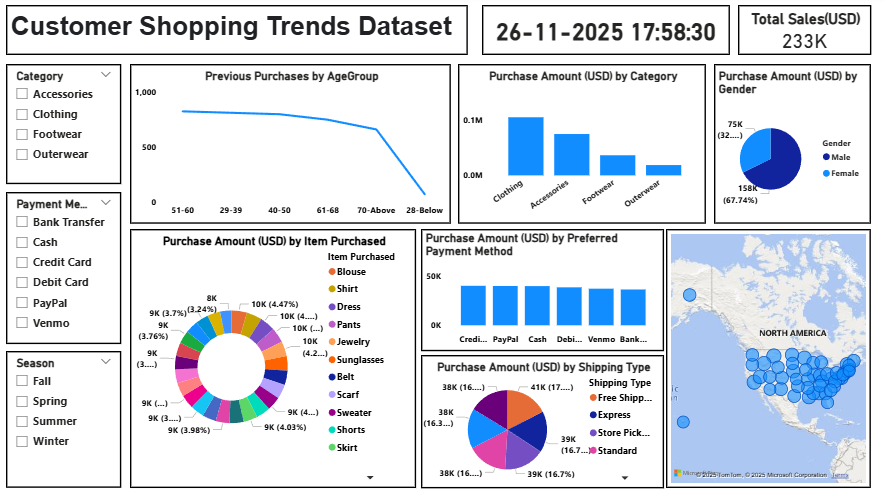

Layout of this report page (visuals, bound fields, positions):
{"tool":"powerbi","page":{"name":"Page 1","canvas":[1280,720],"ordinal":0},"visuals":[{"type":"textbox","box":[10.1,13,665.3,72],"z":0},{"type":"card","fields":{"Values":["shopping_trends.Today"]},"box":[695.5,13,357.1,72],"z":1},{"type":"card","title":"Total Sales(USD)","fields":{"Values":["Sum(shopping_trends.Purchase Amount (USD))"]},"box":[1064.2,13,191.5,72],"z":2},{"type":"slicer","fields":{"Values":["shopping_trends.Category"]},"box":[10.1,97.9,165.6,172.8],"z":3},{"type":"slicer","fields":{"Values":["shopping_trends.Payment Method"]},"box":[10.1,282.2,165.6,218.9],"z":4},{"type":"slicer","fields":{"Values":["shopping_trends.Season"]},"box":[10.1,511.2,165.6,197.3],"z":5},{"type":"lineChart","title":"Previous Purchases by AgeGroup","fields":{"Category":["shopping_trends.AgeGroup"],"Y":["CountNonNull(shopping_trends.Previous Purchases)"]},"box":[188.6,97.9,462.2,230.4],"z":6},{"type":"clusteredColumnChart","title":"Purchase Amount (USD) by Category","fields":{"Y":["Sum(shopping_trends.Purchase Amount (USD))"],"Category":["shopping_trends.Category"]},"box":[661,97.9,357.1,230.4],"z":7},{"type":"pieChart","title":"Purchase Amount (USD) by Gender","fields":{"Category":["shopping_trends.Gender"],"Y":["Sum(shopping_trends.Purchase Amount (USD))"]},"box":[1029.6,97.9,226.1,230.4],"z":8},{"type":"donutChart","title":"Purchase Amount (USD) by Item Purchased","fields":{"Category":["shopping_trends.Item Purchased"],"Y":["Sum(shopping_trends.Purchase Amount (USD))"]},"box":[188.6,335.5,411.8,373],"z":9},{"type":"map","fields":{"Category":["shopping_trends.Location"],"Size":["CountNonNull(shopping_trends.Category)"]},"box":[960.5,335.5,295.2,373],"z":10},{"type":"clusteredColumnChart","title":"Purchase Amount (USD) by Preferred Payment Method","fields":{"Category":["shopping_trends.Preferred Payment Method"],"Y":["Sum(shopping_trends.Purchase Amount (USD))"]},"box":[607.7,335.5,349.9,175.7],"z":11},{"type":"pieChart","title":"Purchase Amount (USD) by Shipping Type","fields":{"Category":["shopping_trends.Shipping Type"],"Y":["Sum(shopping_trends.Purchase Amount (USD))"]},"box":[607.7,517,349.9,191.5],"z":12}]}

Visuals, with their boxes in screenshot pixels (x1, y1, x2, y2), scaled from the page's 1280x720 canvas onto the 886x495 screenshot:
textbox: left=7, top=9, right=468, bottom=58
card - shopping_trends.Today: left=481, top=9, right=729, bottom=58
"Total Sales(USD)" card: left=737, top=9, right=869, bottom=58
slicer - shopping_trends.Category: left=7, top=67, right=122, bottom=186
slicer - shopping_trends.Payment Method: left=7, top=194, right=122, bottom=345
slicer - shopping_trends.Season: left=7, top=351, right=122, bottom=487
"Previous Purchases by AgeGroup" lineChart: left=131, top=67, right=450, bottom=226
"Purchase Amount (USD) by Category" clusteredColumnChart: left=458, top=67, right=705, bottom=226
"Purchase Amount (USD) by Gender" pieChart: left=713, top=67, right=869, bottom=226
"Purchase Amount (USD) by Item Purchased" donutChart: left=131, top=231, right=416, bottom=487
map - shopping_trends.Location x CountNonNull(shopping_trends.Category): left=665, top=231, right=869, bottom=487
"Purchase Amount (USD) by Preferred Payment Method" clusteredColumnChart: left=421, top=231, right=663, bottom=351
"Purchase Amount (USD) by Shipping Type" pieChart: left=421, top=355, right=663, bottom=487
